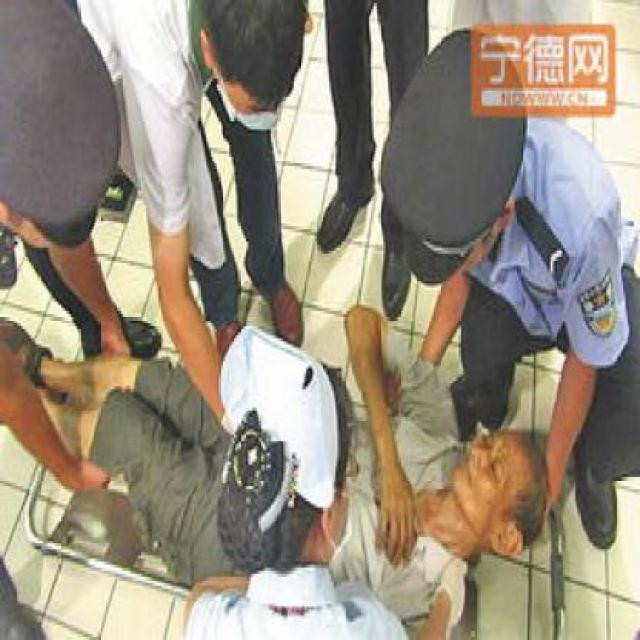fall: (273, 278, 562, 631)
